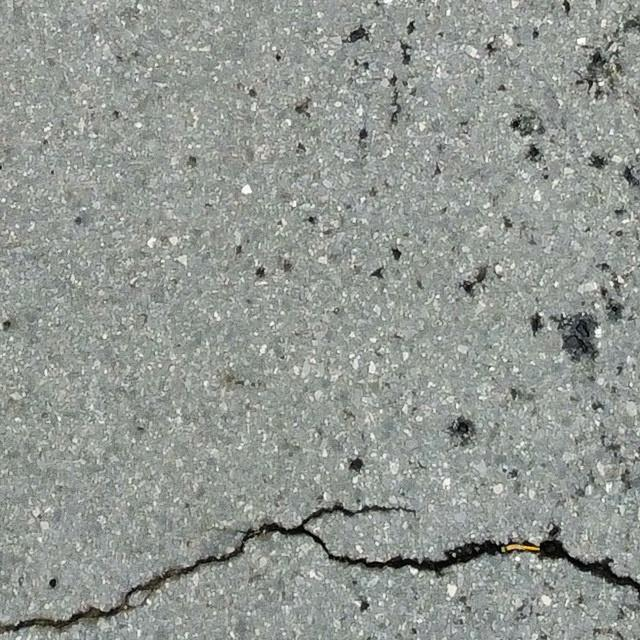TransverseCrack: (1, 503, 640, 632)
